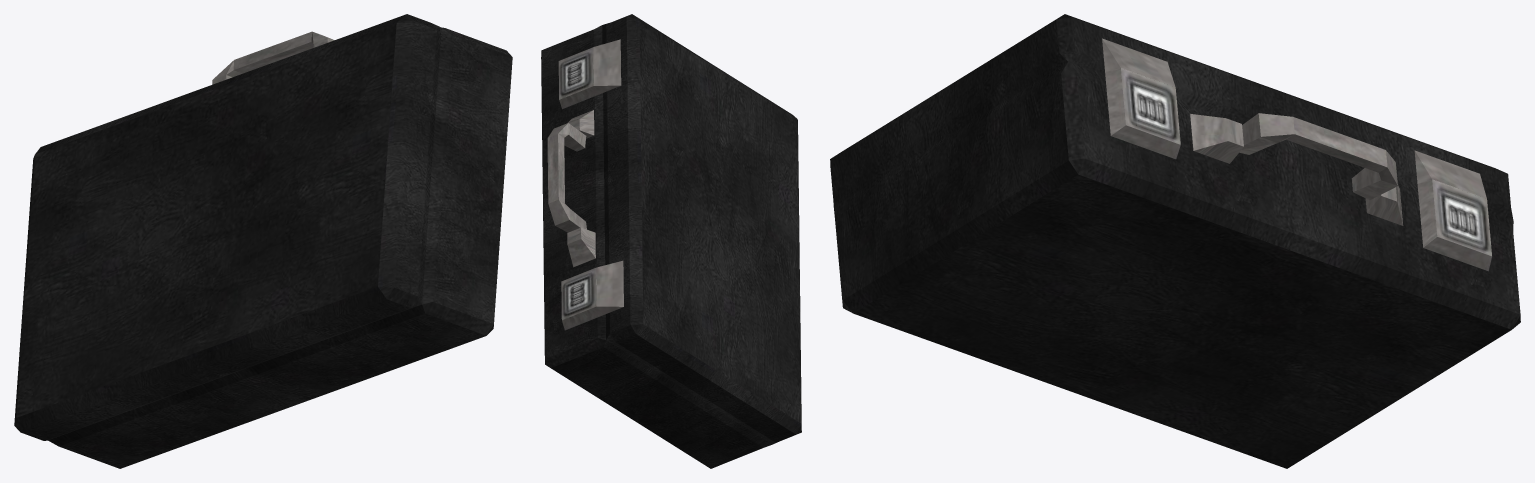
The model's file is mhw_culturalibre_suitcase.glb.
The picture shows the model from 3 angles, left to right: view 1: azimuth 30°, elevation 25°; view 2: azimuth 150°, elevation 25°; view 3: azimuth 270°, elevation 25°; orthographic projection. The views are drawn at different scales.
Parts seen in each view (by area): view 1: mhw_culturalibre_suitcase; view 2: mhw_culturalibre_suitcase; view 3: mhw_culturalibre_suitcase.
Part boxes in pixels (bbox=[...]): mhw_culturalibre_suitcase: bbox=[14, 14, 512, 468]; mhw_culturalibre_suitcase: bbox=[541, 14, 801, 468]; mhw_culturalibre_suitcase: bbox=[830, 14, 1520, 468].
Size of the model in its own units: 0.5239 by 0.5643 by 0.6252.
1 material, 1 textured.
